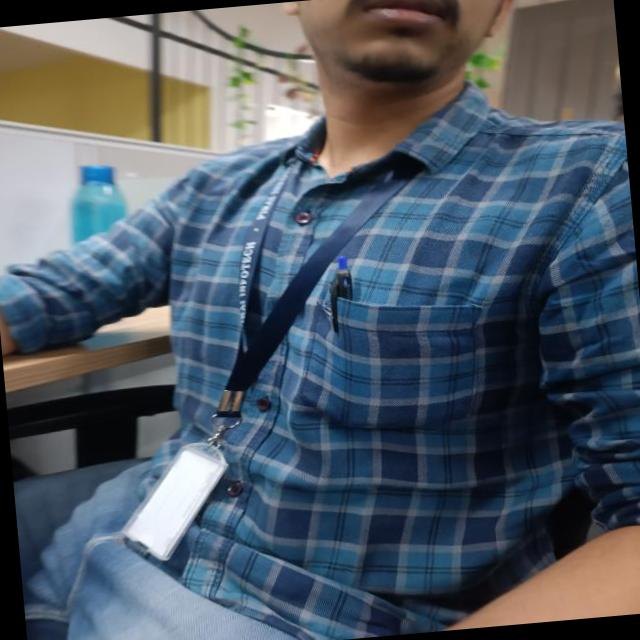id_card: (90, 116, 443, 572)
